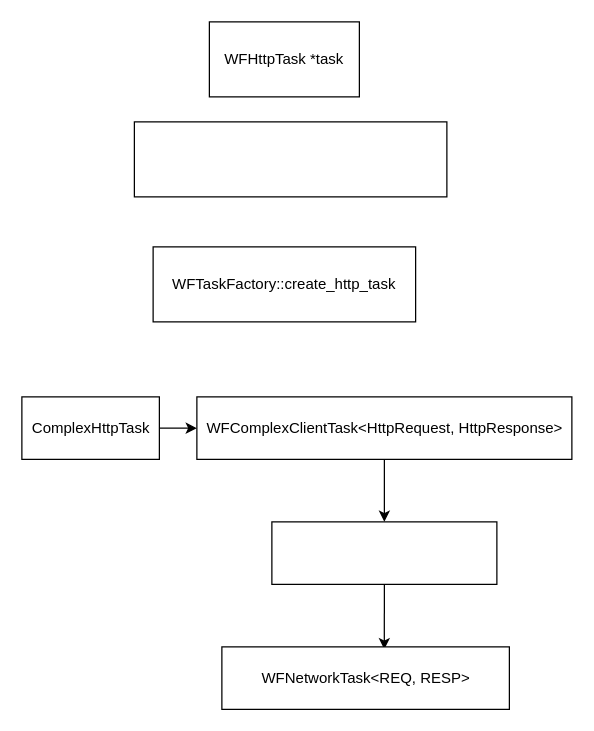
Image size: 594x731. Some labels were removed from this diagram. The shapes that lost their labels are listed below. From the top down, each one's box as (x1, y1, x2, y2) in pixels, then its label:
(133, 121, 447, 197): WFNetworkTask<protocol::HttpRequest, protocol::HttpResponse>
(271, 521, 497, 584): WFClientTask<REQ, RESP>
